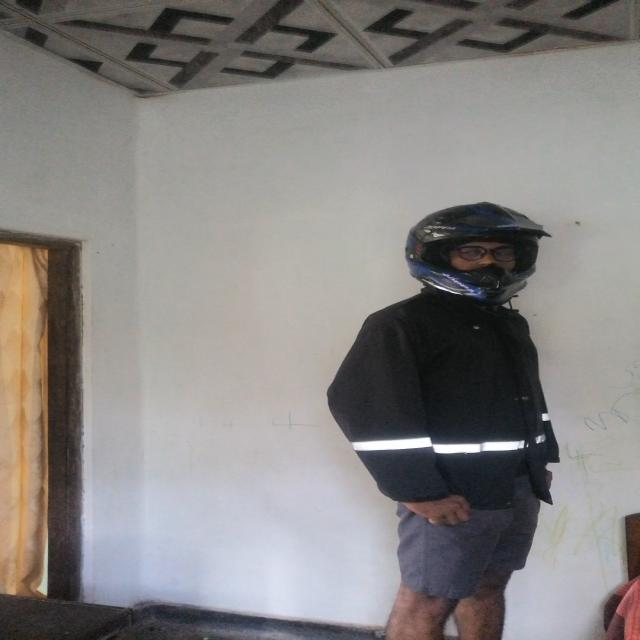Helmet_Wearer: (405, 207, 573, 313)
Jacket_Wearer: (296, 276, 589, 494)
